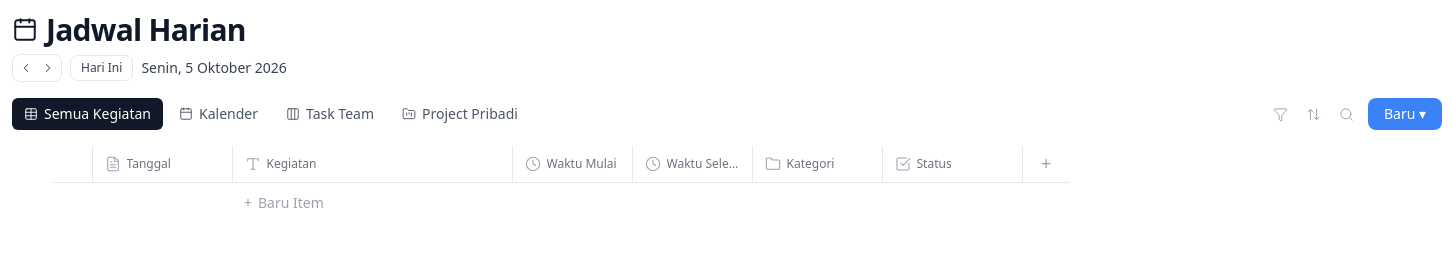
DailyPage table item creation & title editing › hanya membuat 1 baris saat klik "+ Baru Item" meskipun calendarChange memancarkan aktivitas yang sama, serta judulnya langsung bisa diedit
Click the button "+ Baru Item" at (284,203), box [240,191,328,215]
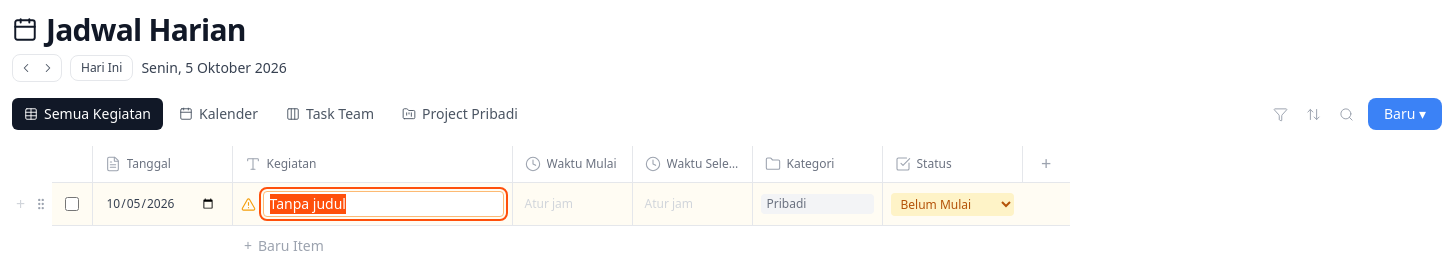
Check: the number of fields showing "Tanpa judul" is 1
Note: Pastikan nama item bisa diketik dan disimpan
Replace the text in the field showing "Tanpa judul" with "Rapat Sprint Pagi" at (383,204), box [262,191,504,217]
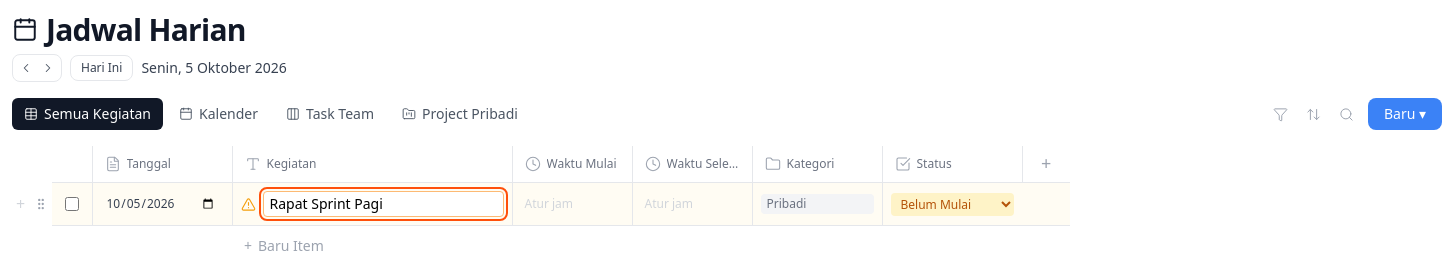
Press Enter in the field showing "Tanpa judul", box [262,191,504,217]
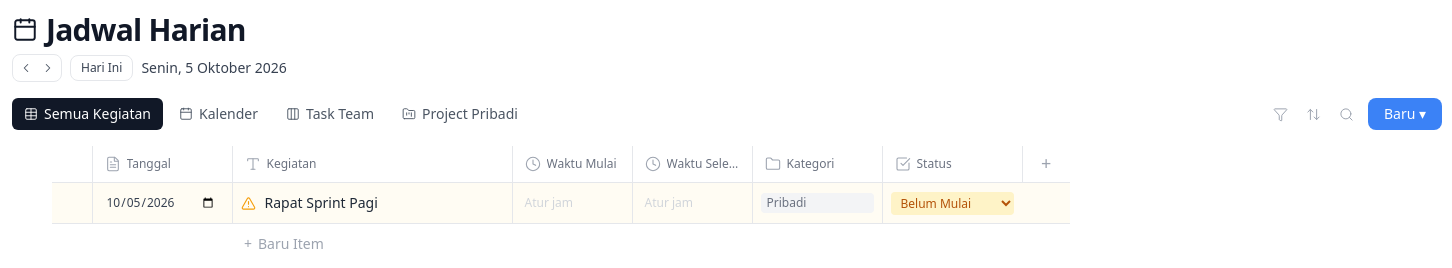
Check: the button "Rapat Sprint Pagi" is shown, box [262,193,504,213]
